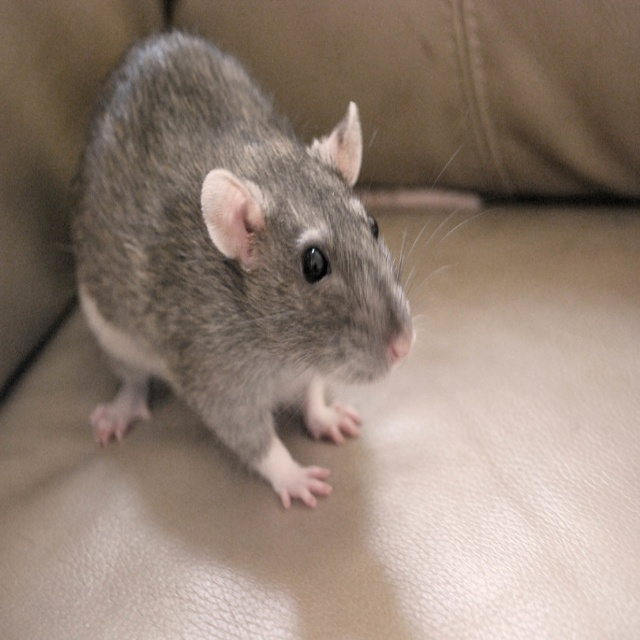Mouse: (54, 23, 499, 509)
